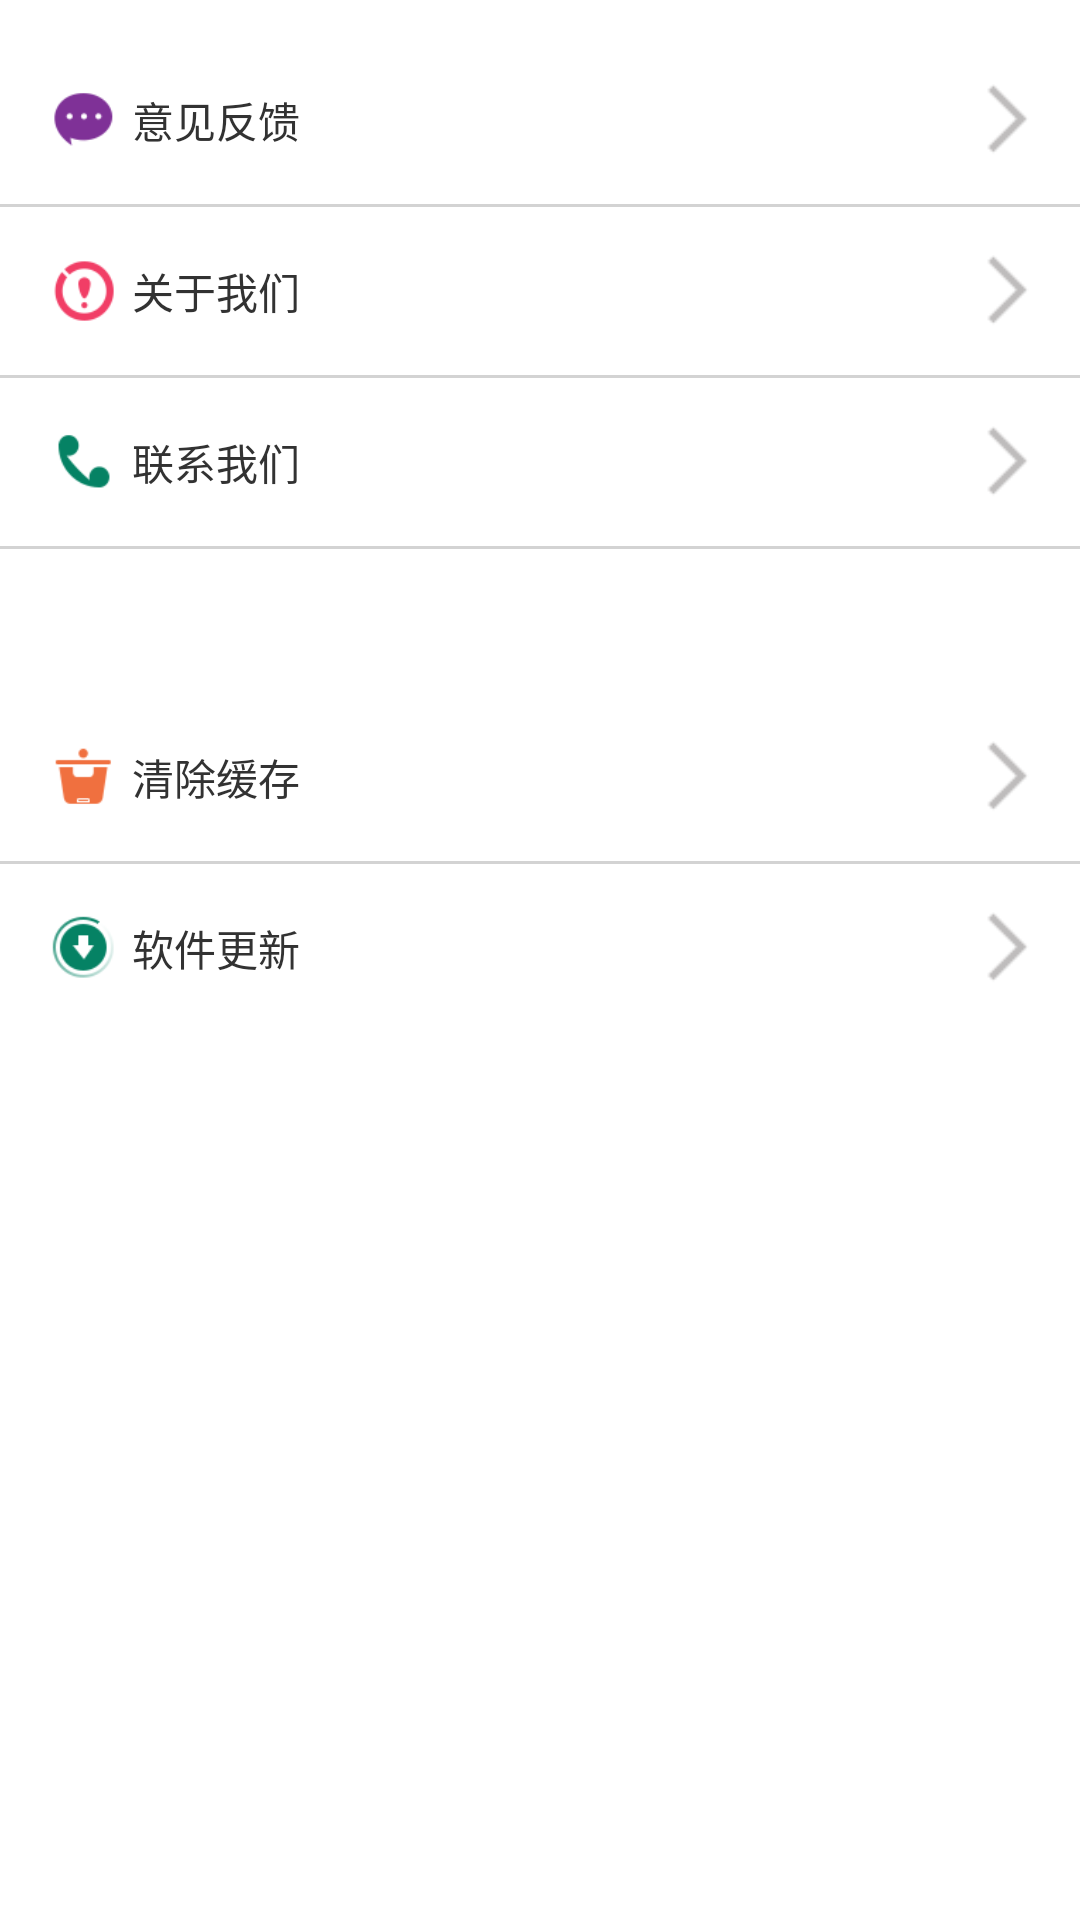

Named icons in this screenshot (1080px x 1920px) and their centers, point (x, y):
arrow right: point (1007, 119), point (1007, 290), point (1007, 461), point (1007, 776), point (1007, 947)
